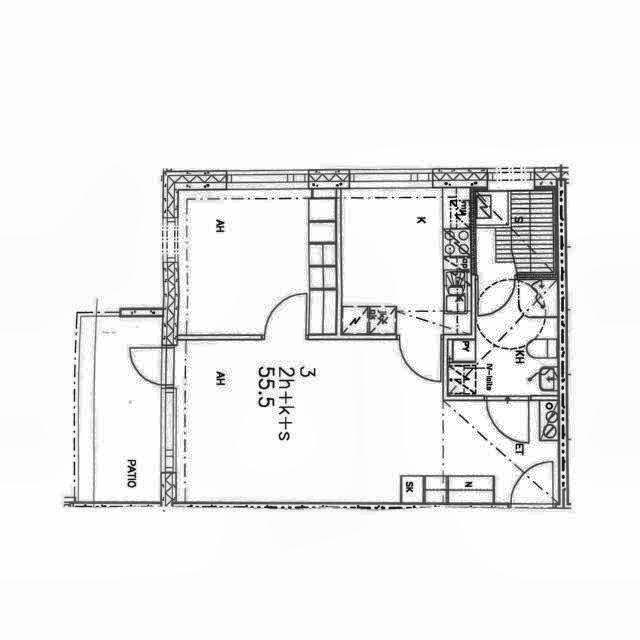room: (178, 190, 335, 334), (448, 192, 557, 395), (342, 188, 470, 335)
